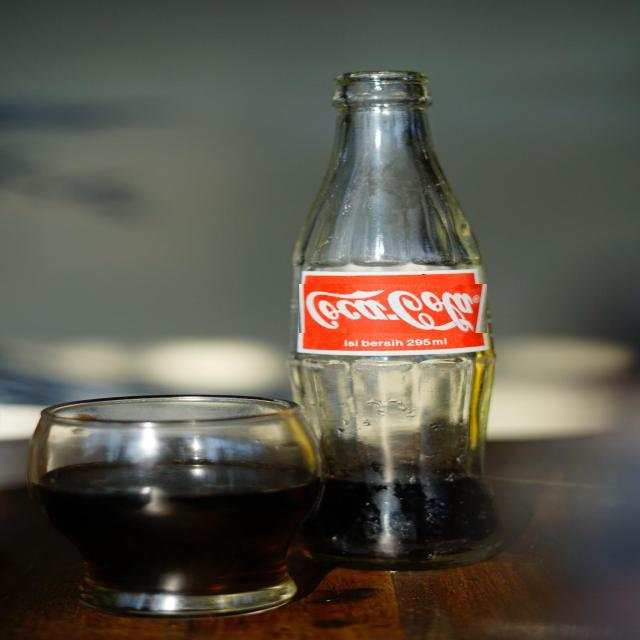coca-cola: (299, 284, 487, 333)
